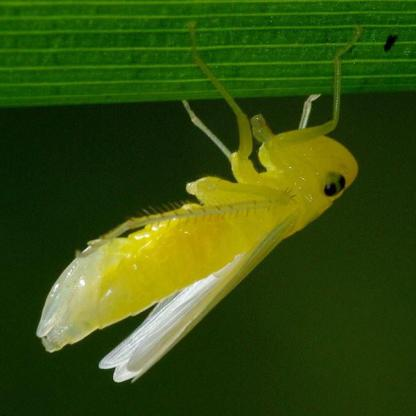Green-Leafhopper: (36, 20, 363, 388)
